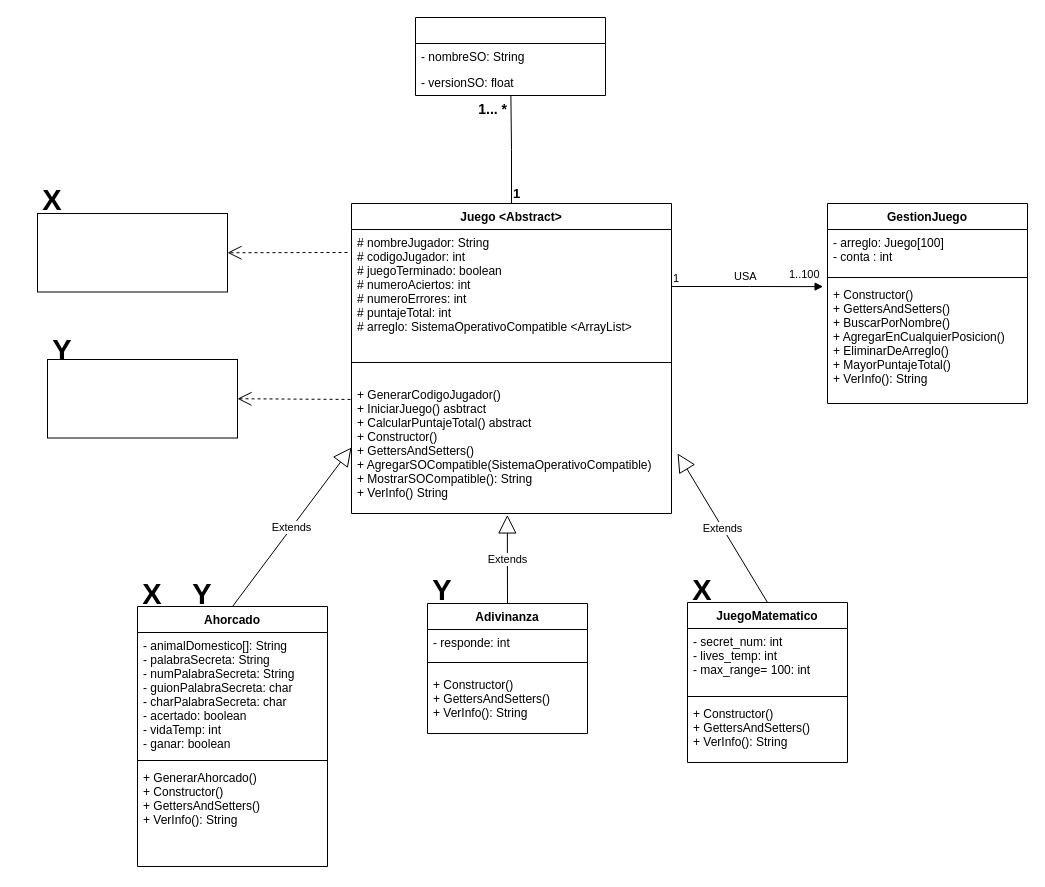
The diagram is 1045 pixels wide and 887 high, and some of its shapes have lost their labels. The shapes that lost their labels are listed below. From the top down, each one's box as (x1, y1, x2, y2) in pixels, then its label:
(414, 16, 606, 96): SistemaOperativoCompatible
(36, 212, 228, 292): <<Interface>> Constantes01 + VIDA_TOTALES = 10 int + VALOR_VIDA = 50 int
(46, 358, 238, 438): <<Interface>> Constantes02 + VALOR_ACIERTO = 1000 int + VALOR_ERROR = 500 int
